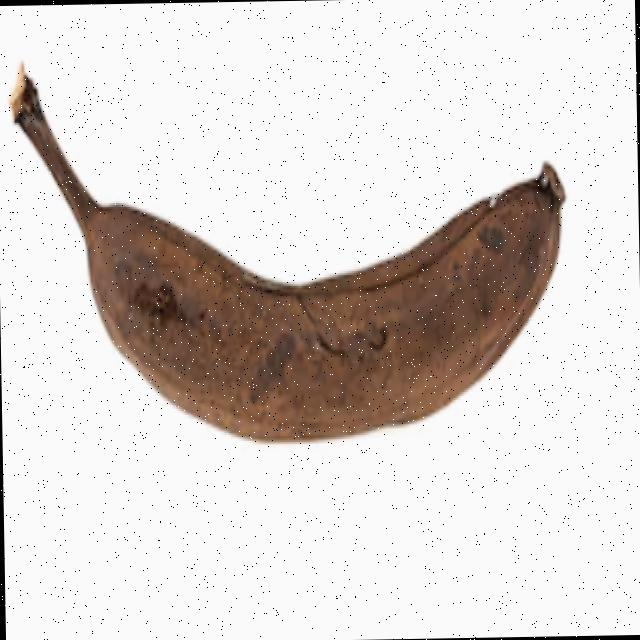Rotten: (2, 31, 580, 467)
